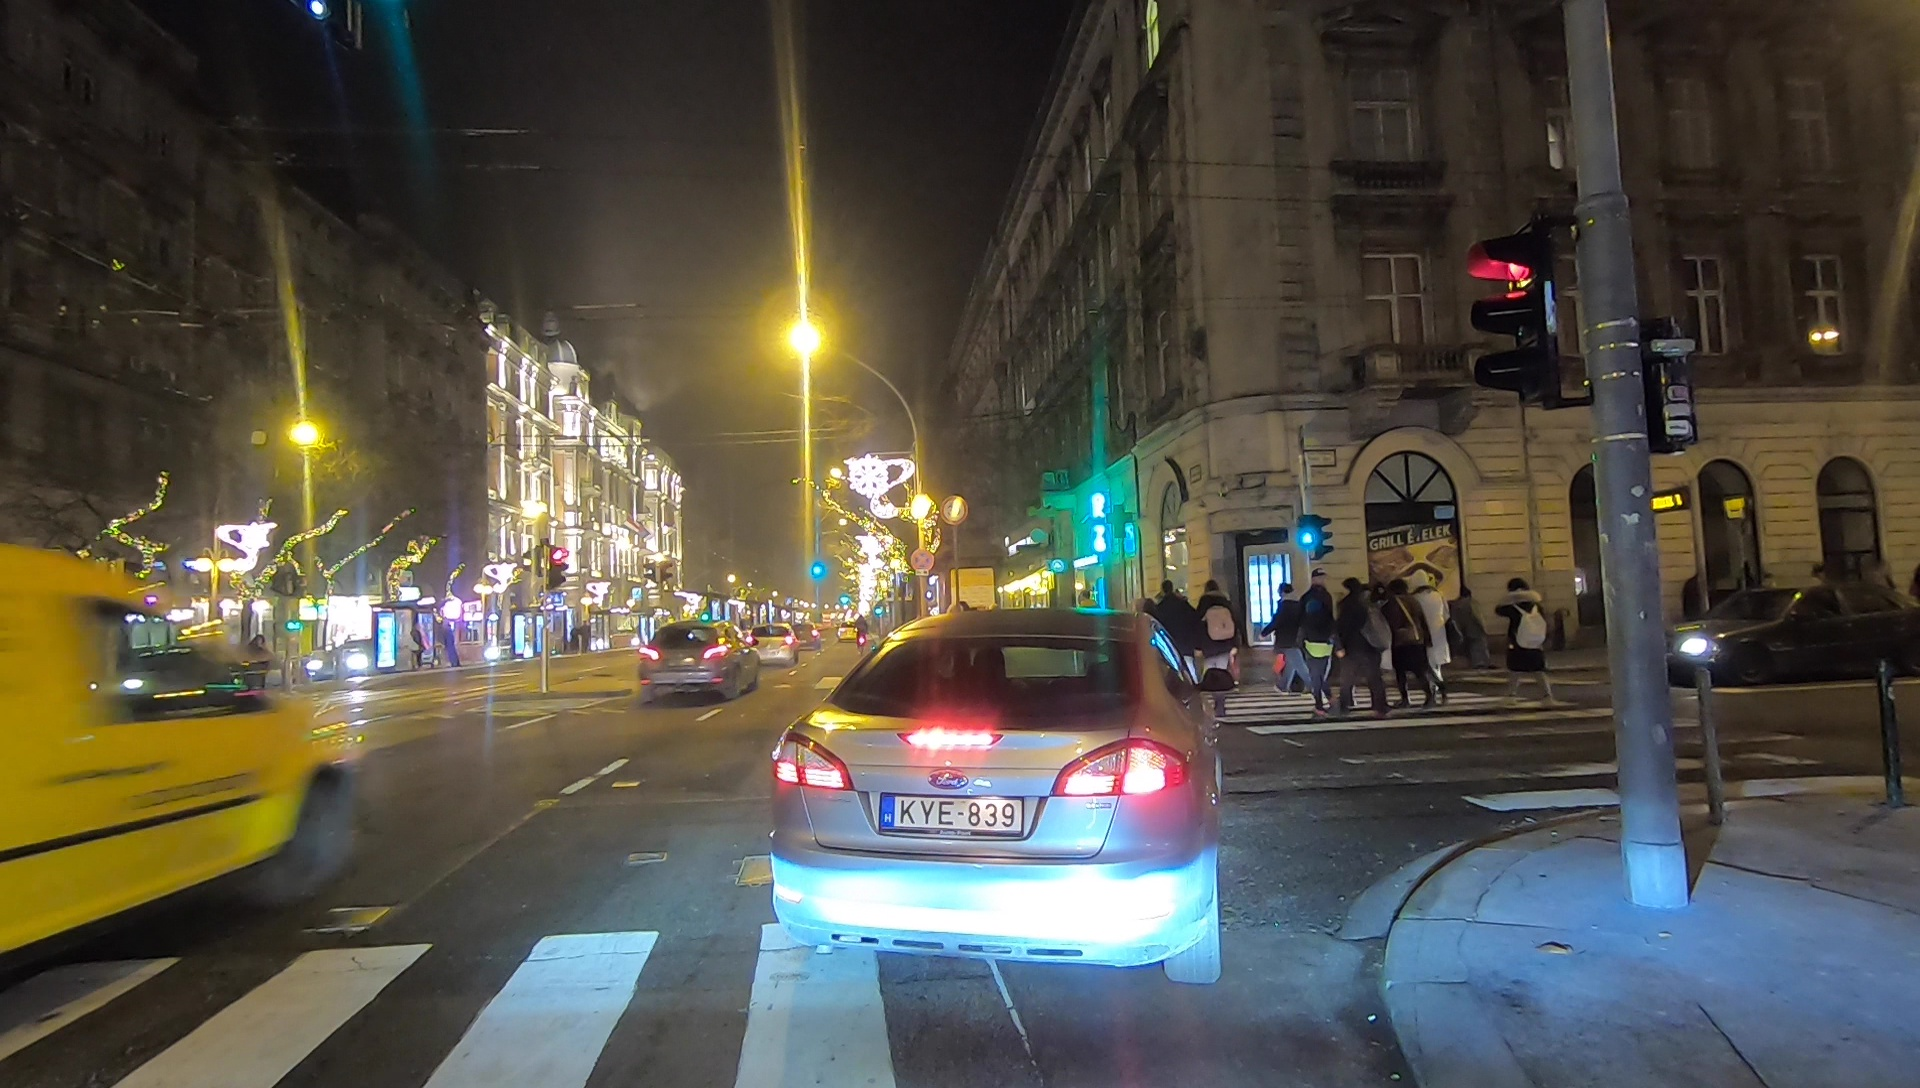person: (1337, 575, 1391, 714), (1500, 580, 1556, 703), (1387, 580, 1441, 704), (1267, 581, 1313, 694), (1407, 568, 1451, 686), (1305, 568, 1335, 712), (1155, 580, 1197, 669), (1197, 580, 1234, 681), (1448, 585, 1486, 663), (442, 622, 461, 668), (407, 620, 424, 668)
